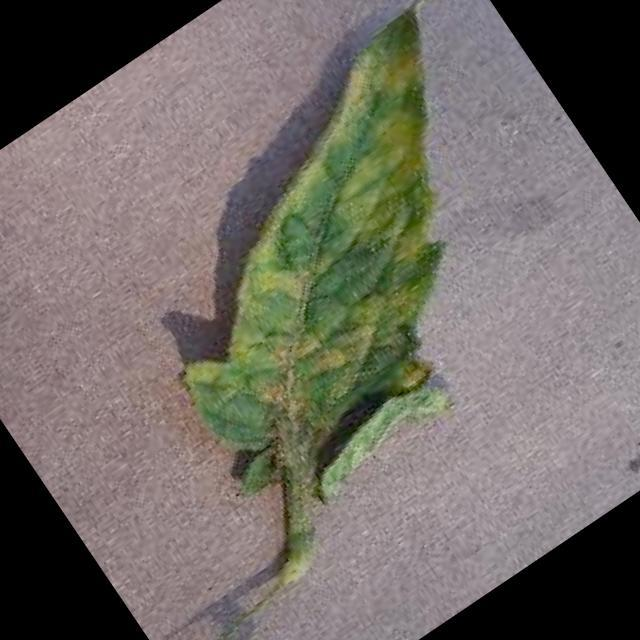Tomato mold leaf: (68, 0, 640, 537)
